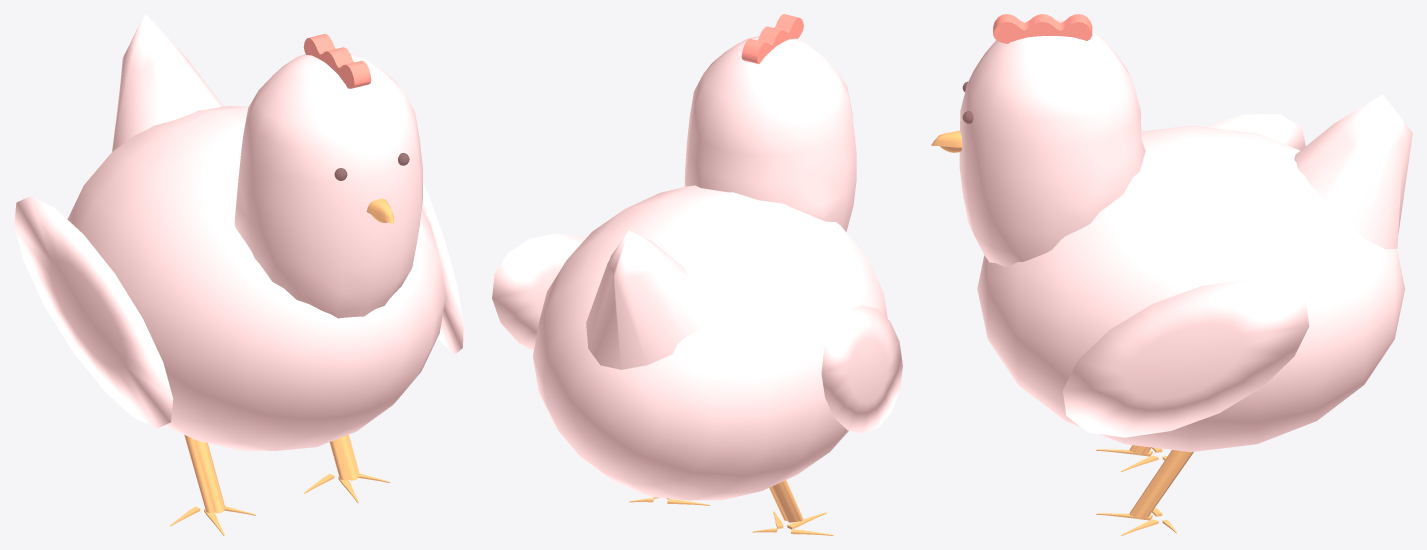
Rendered from white chicken.fbx.
The picture shows the model from 3 angles, left to right: view 1: azimuth 30°, elevation 25°; view 2: azimuth 150°, elevation 25°; view 3: azimuth 270°, elevation 25°; orthographic projection. The views are drawn at different scales.
Parts seen in each view (by area): view 1: body, head, pCylinder4, tail, pCylinder3, head_thing, pCylinder1, pCylinder2; view 2: body, head, tail, pCylinder4, pCylinder3, head_thing, pCylinder1; view 3: body, head, pCylinder3, tail, head_thing, pCylinder4, pCylinder2.
Part boxes in pixels (x1,y1,x2,y2): body: (67,106,445,450); head: (234,53,422,318); pCylinder4: (14,196,173,428); tail: (112,14,223,151); pCylinder3: (421,183,463,354); head_thing: (303,34,371,88); pCylinder1: (184,435,225,513); pCylinder2: (329,434,360,480); body: (533,185,887,500); head: (684,36,856,231); tail: (586,230,704,369); pCylinder4: (821,305,902,433); pCylinder3: (492,233,585,350); head_thing: (741,14,803,63); pCylinder1: (769,480,803,522); body: (977,125,1404,452); head: (959,20,1145,266); pCylinder3: (1062,279,1309,437); tail: (1294,94,1412,249); head_thing: (993,14,1092,43); pCylinder4: (1203,114,1305,150); pCylinder2: (1129,450,1193,518).
Size of the model in its own units: 2.37 by 3.08 by 2.84.
